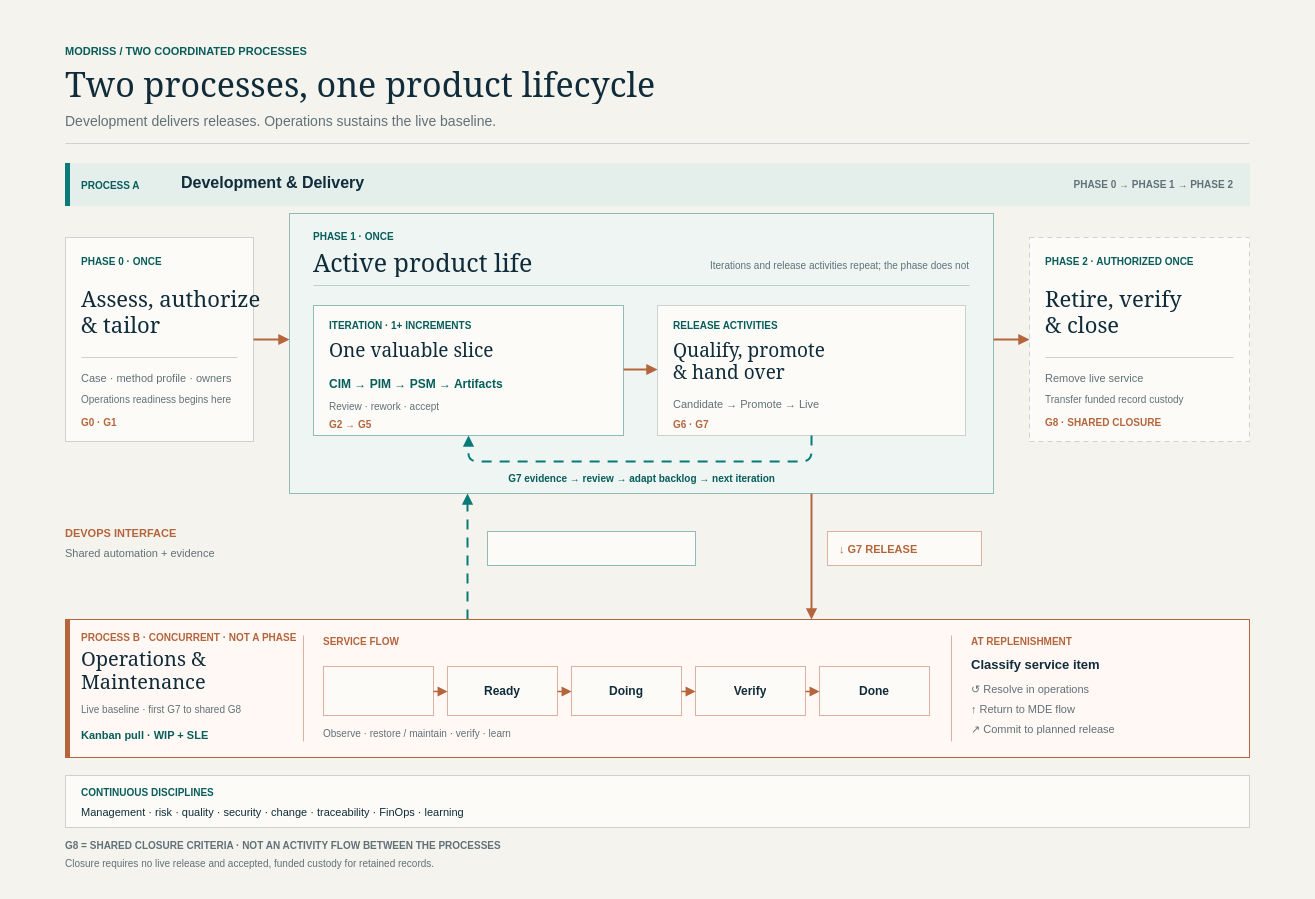
This 1315x899 diagram has some shape labels left out. Each missing label, with the box of its shape:
Requested: (322, 666, 434, 716)
↑ FEEDBACK + CHANGE: (486, 530, 696, 566)
